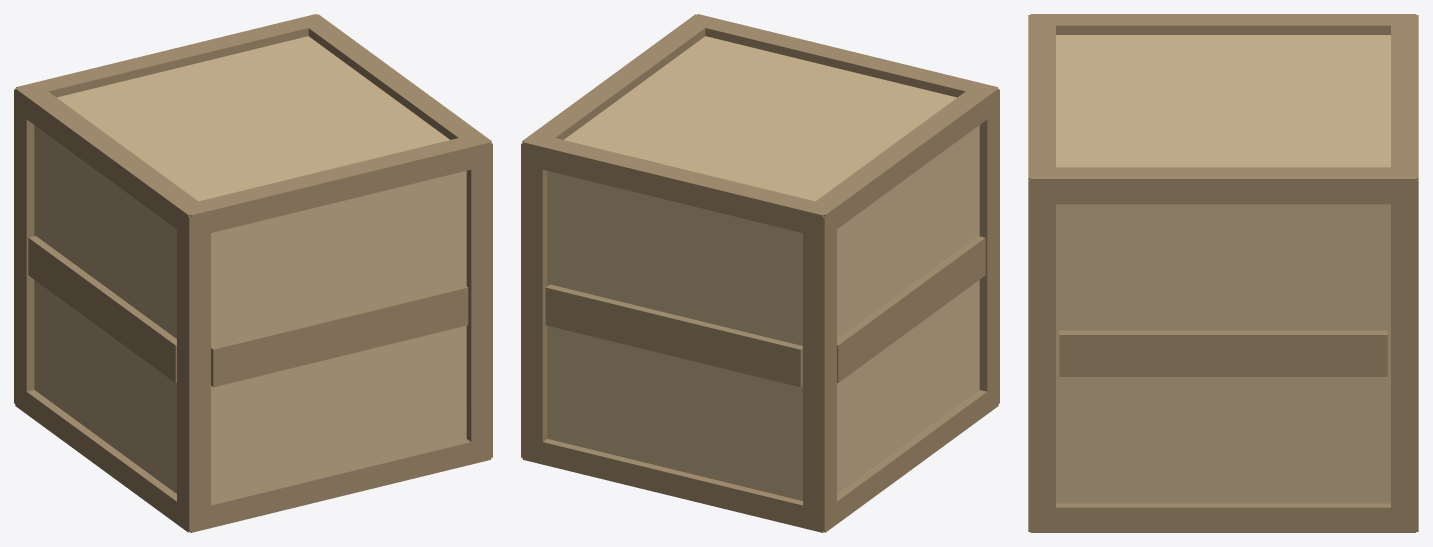
The model's file is Crate.glb.
3 views of the same model, side by side, from view 1: azimuth 30°, elevation 25°; view 2: azimuth 150°, elevation 25°; view 3: azimuth 270°, elevation 25° (orthographic). The views are drawn at different scales.
Parts seen in each view (by area): view 1: Crate; view 2: Crate; view 3: Crate.
Boxes of the visible parts, left/top/right/bottom form: Crate: left=14, top=14, right=492, bottom=532; Crate: left=521, top=14, right=999, bottom=532; Crate: left=1028, top=14, right=1418, bottom=532.
Bounding box in the file's own units: 1.01 × 1.01 × 1.01.
